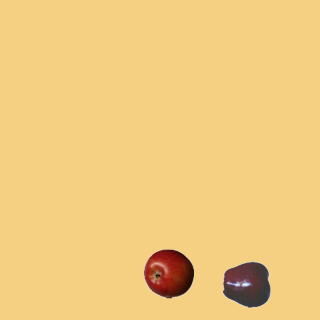Apple Braeburn: (143, 248, 193, 298)
Apple Red Delicious: (222, 259, 272, 309)
